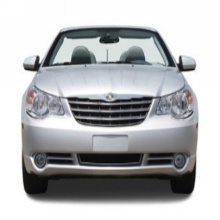no damage: (20, 24, 200, 193)
